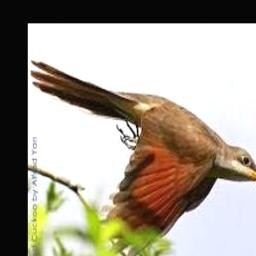Cuckoo: (31, 59, 256, 256)
